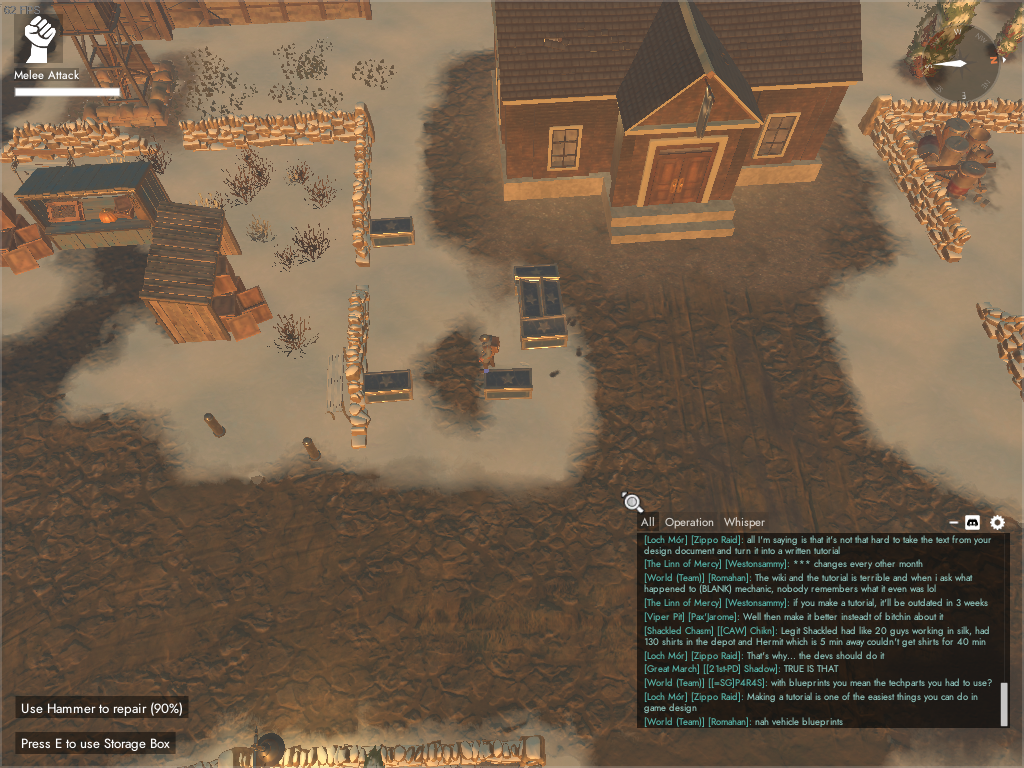player: (475, 332, 502, 370)
storage_box: (359, 369, 414, 405), (517, 314, 569, 352), (483, 367, 534, 403), (367, 215, 415, 249), (512, 263, 563, 295), (514, 279, 546, 320), (538, 279, 565, 321)
toggle_storage_box: (16, 732, 175, 753)
watchtower: (51, 1, 183, 128)
